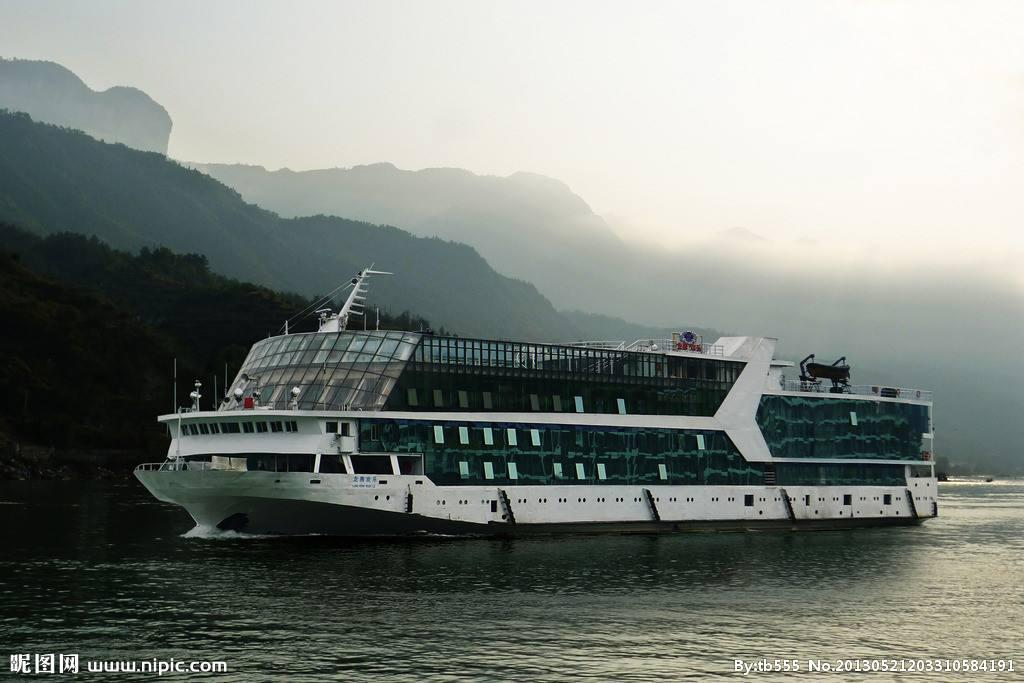youlun: (131, 296, 953, 538)
